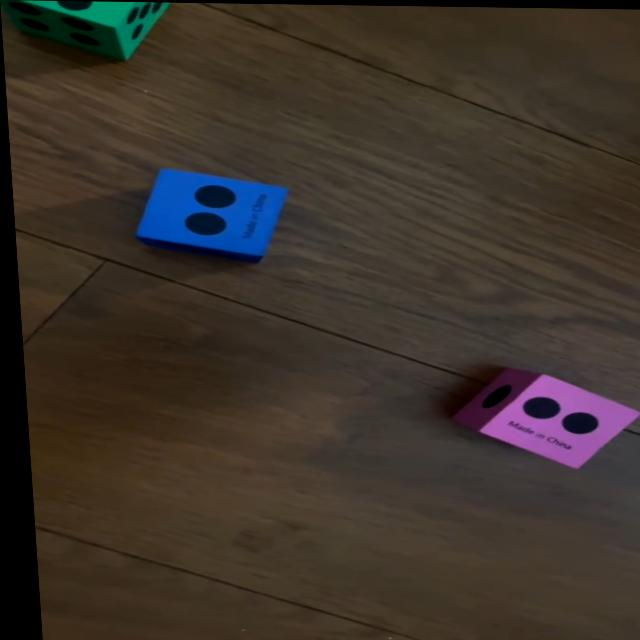cube: (132, 169, 291, 263), (7, 0, 174, 59)
